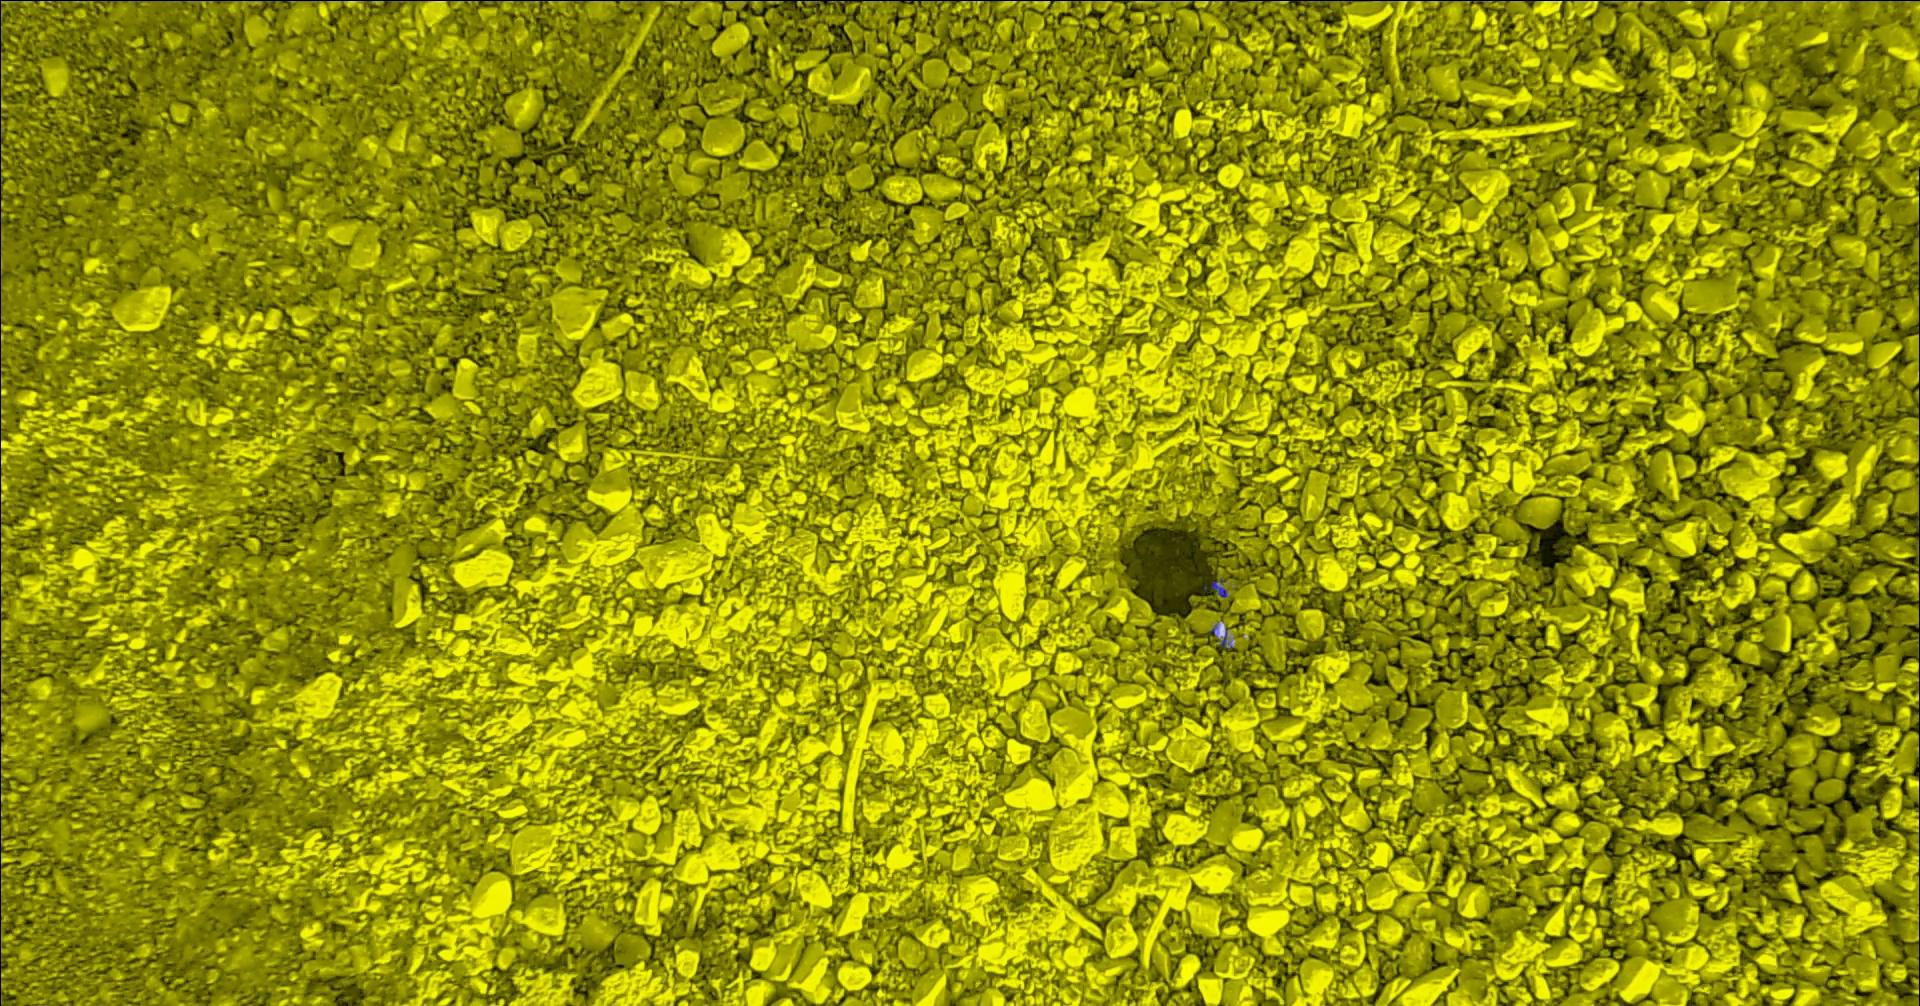ant: (1219, 627, 1234, 648), (1213, 578, 1228, 597)
